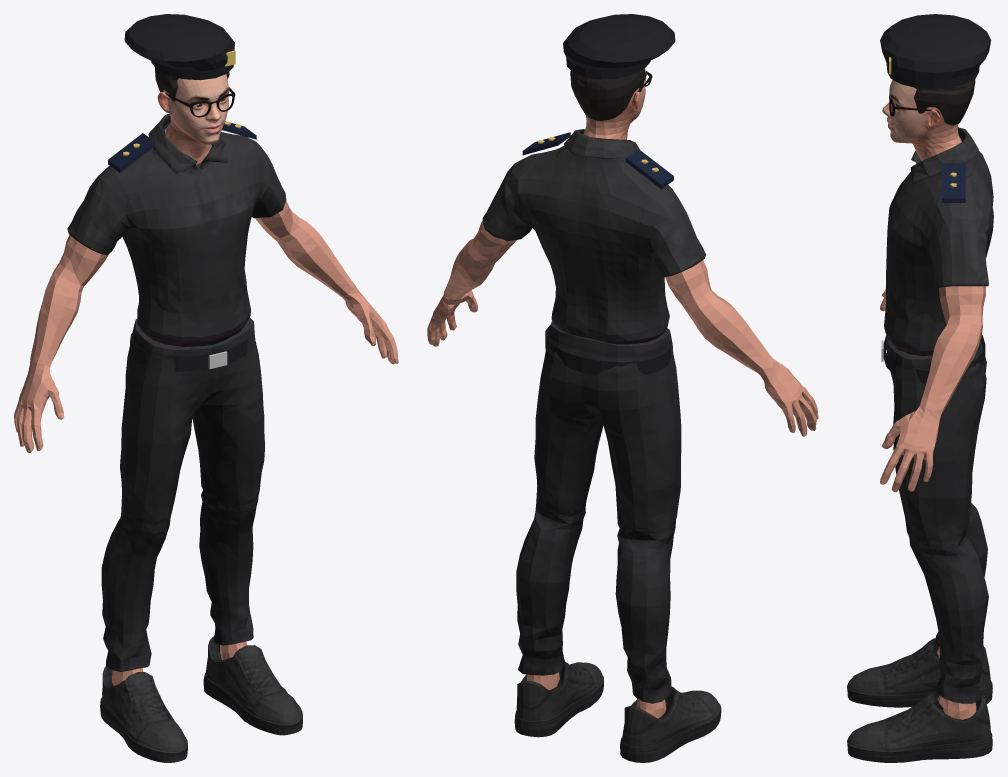
The model's file is police-black.glb.
3 views of the same model, side by side, from view 1: azimuth 30°, elevation 25°; view 2: azimuth 150°, elevation 25°; view 3: azimuth 270°, elevation 25° (orthographic). The views are drawn at different scales.
Visible parts, largest first — view 1: body; view 2: body; view 3: body.
Boxes of the visible parts, x1,y1,x2,y2 form: body: (14, 14, 398, 762); body: (427, 14, 818, 762); body: (847, 14, 993, 762).
Bounding box in the file's own units: 1.06 × 1.89 × 0.3655.
Materials: 1 (1 with a texture image).
